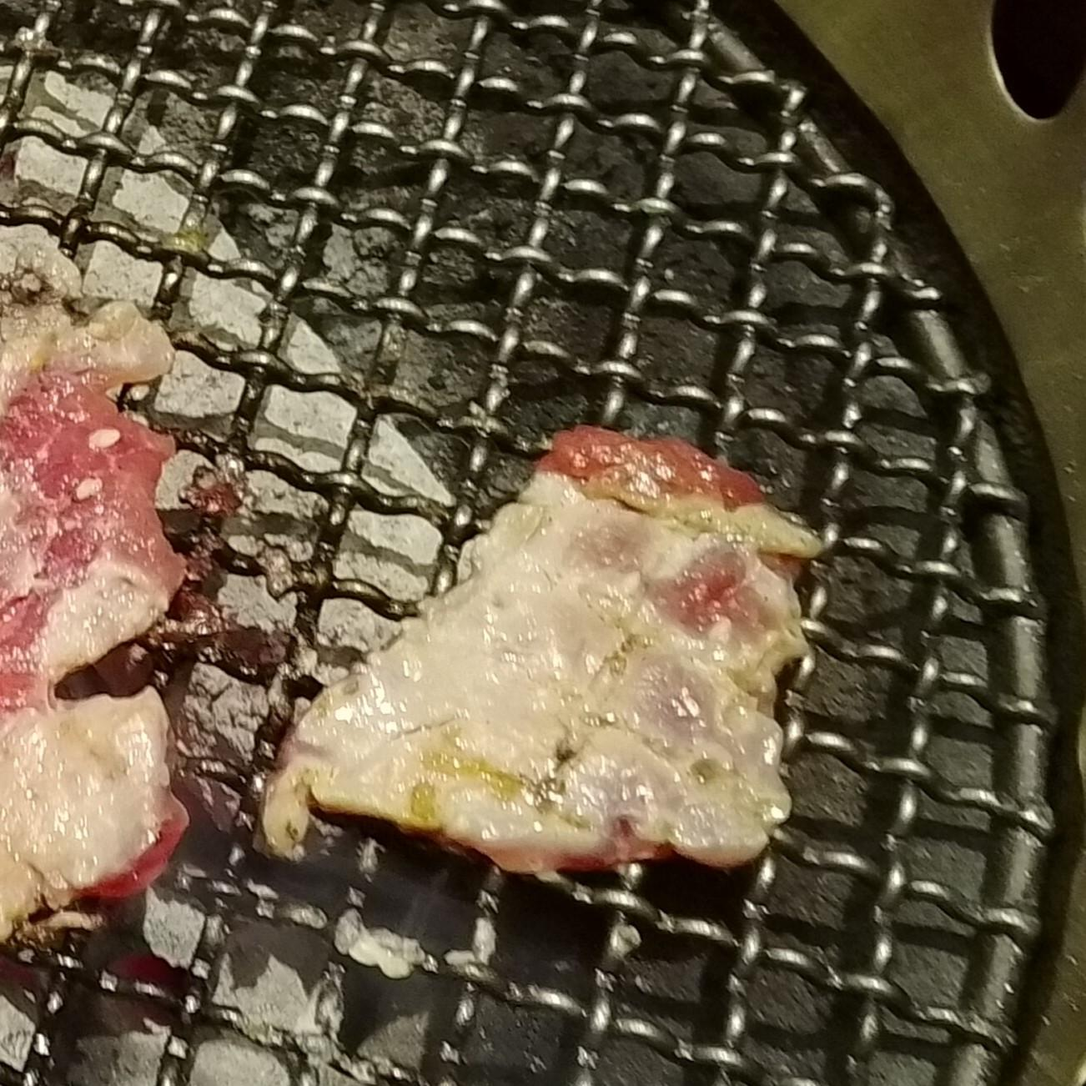Undercooked: (261, 428, 822, 873), (0, 304, 187, 941)
